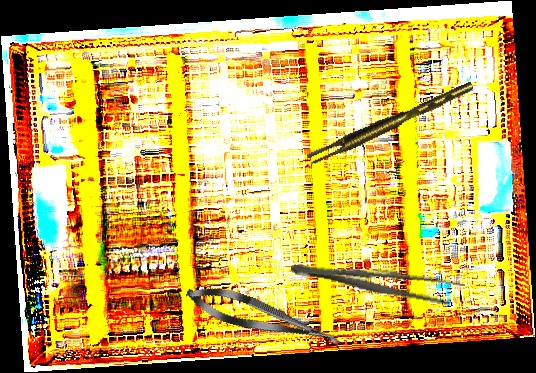Dressing Forceps: (288, 254, 467, 308)
Micro Scissor: (182, 277, 347, 359)
Tissue Forceps: (304, 81, 478, 166)
